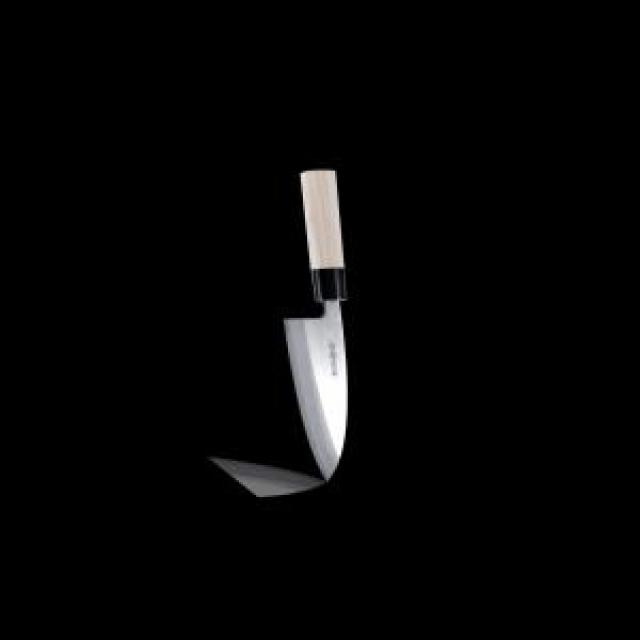knife: (282, 164, 355, 494)
